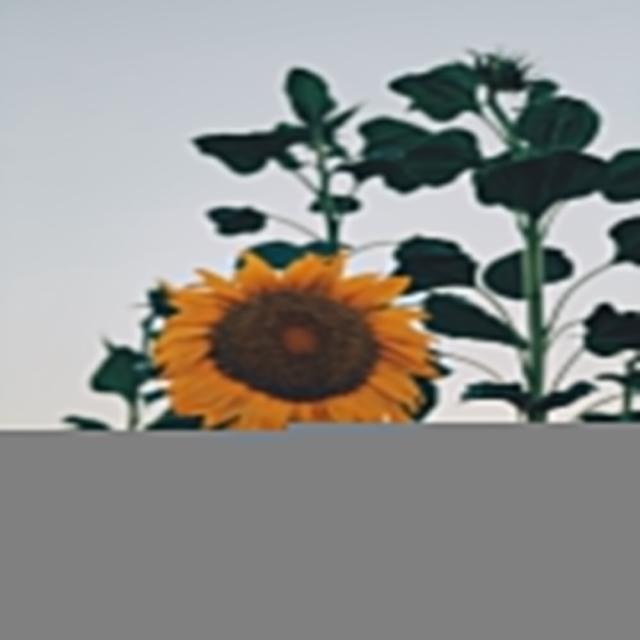sunflower: (145, 238, 442, 406)
